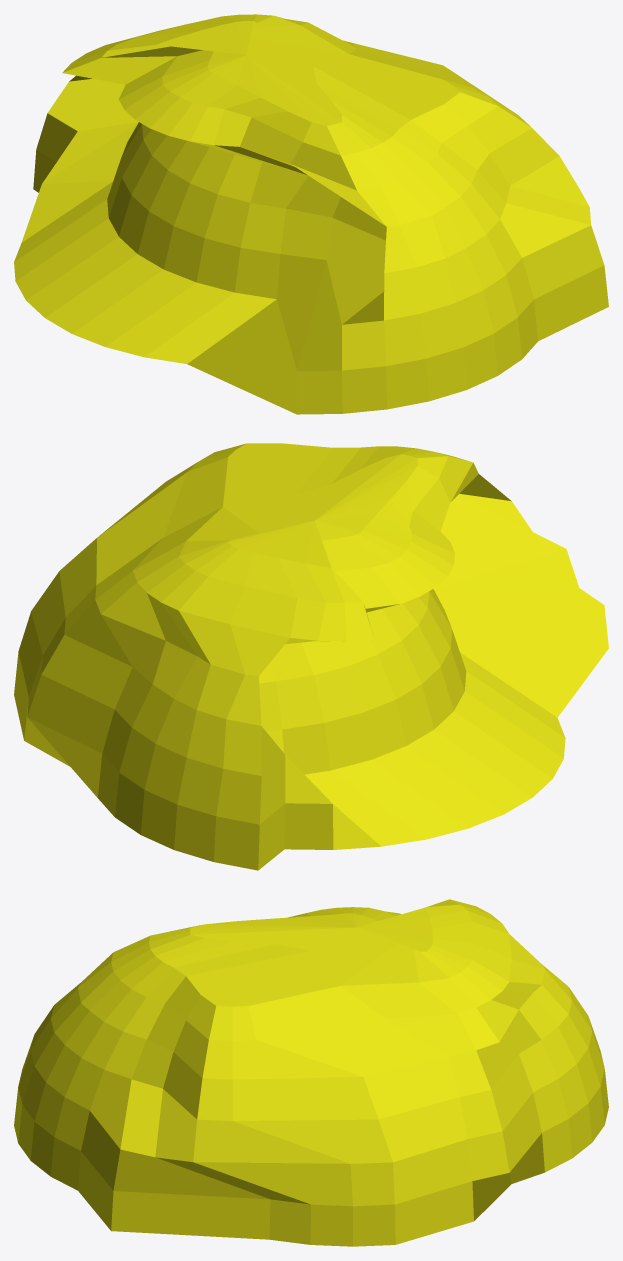
Rendered from hold2.fbx.
3 views of the same model, one above another, from view 1: azimuth 30°, elevation 25°; view 2: azimuth 150°, elevation 25°; view 3: azimuth 270°, elevation 25° (orthographic). The views are drawn at different scales.
Parts seen in each view (by area): view 1: Sphere; view 2: Sphere; view 3: Sphere.
Boxes of the visible parts, left/top/right/bottom form: Sphere: left=14, top=14, right=608, bottom=414; Sphere: left=14, top=443, right=608, bottom=870; Sphere: left=14, top=899, right=608, bottom=1246.
Bounding box in the file's own units: 231 × 100 × 272.
